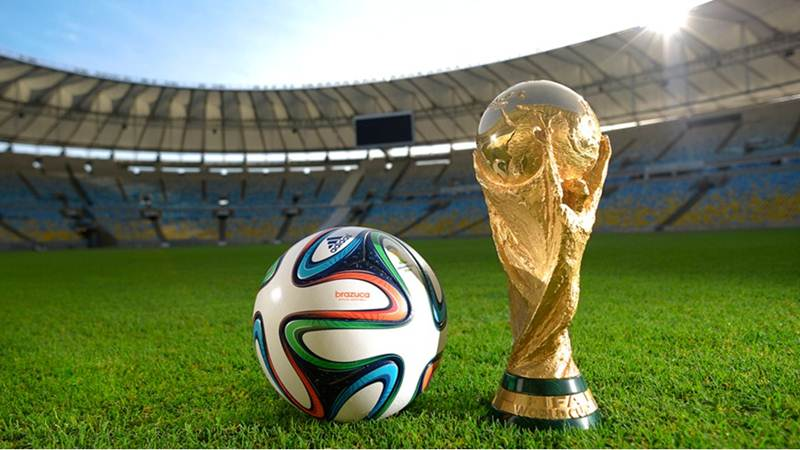football: (251, 225, 452, 422)
